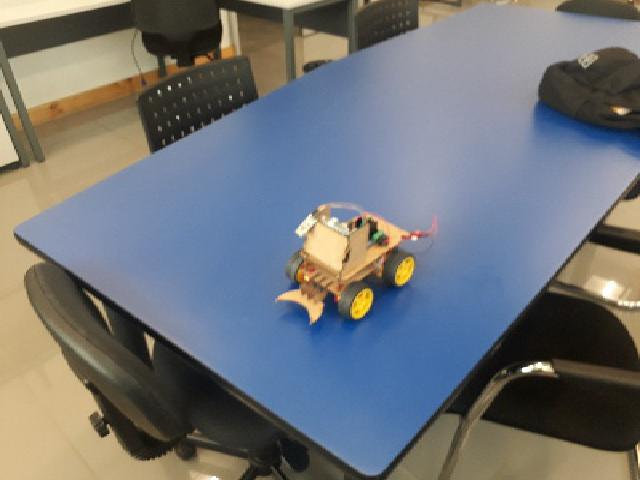Robot: (274, 203, 416, 322)
